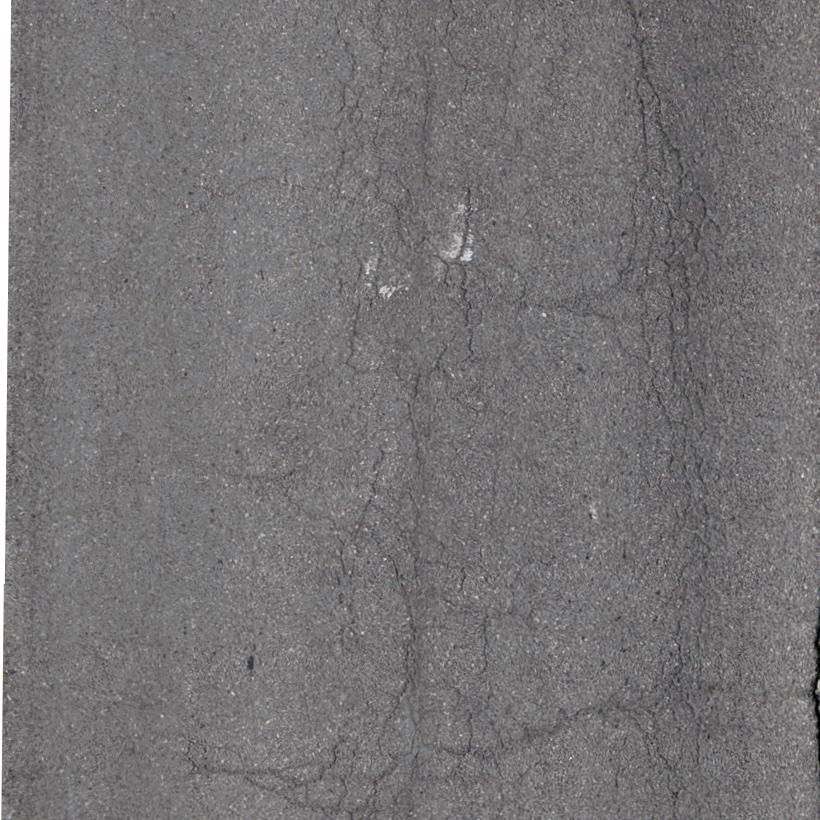GRIETA: (504, 686, 625, 757), (224, 176, 322, 199), (622, 0, 651, 73), (517, 301, 603, 319), (180, 753, 230, 775)
PIEL DE COCODRILO: (231, 0, 535, 819), (601, 72, 732, 819)
